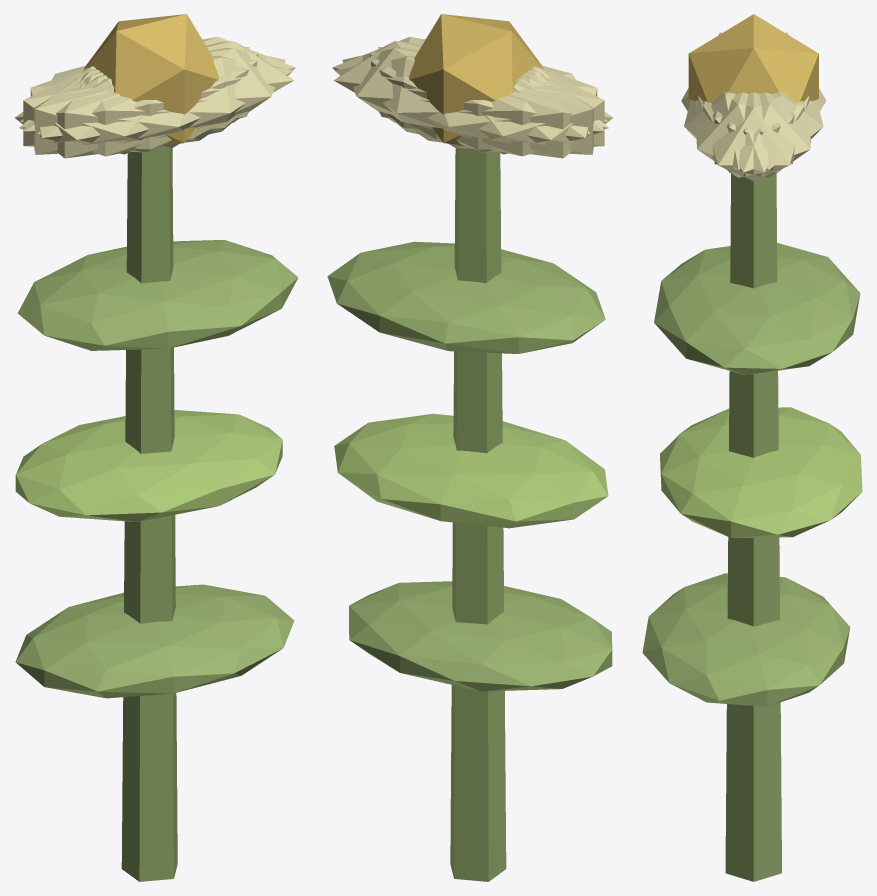
File: buxus-microphylla.glb
The picture shows the model from 3 angles, left to right: view 1: azimuth 30°, elevation 25°; view 2: azimuth 150°, elevation 25°; view 3: azimuth 270°, elevation 25°; orthographic projection.
Parts seen in each view (by area): view 1: stem, leaf0, leaf2, leaf1, center, petal1, petal6, petal2, petal5, petal7, petal0, petal4 (+2 smaller); view 2: stem, leaf1, leaf2, leaf0, center, petal8, petal3, petal7, petal4, petal2, petal0, petal5 (+2 smaller); view 3: stem, leaf2, leaf1, leaf0, center, petal0, petal5, petal4, petal1, petal8.
Boxes of the visible parts, bbox=[...] form: stem: bbox=[121, 148, 177, 881]; leaf0: bbox=[15, 584, 294, 698]; leaf2: bbox=[17, 240, 298, 350]; leaf1: bbox=[15, 410, 282, 522]; center: bbox=[84, 14, 219, 145]; petal1: bbox=[19, 55, 293, 156]; petal6: bbox=[14, 68, 213, 158]; petal2: bbox=[34, 47, 249, 154]; petal5: bbox=[37, 48, 285, 149]; petal7: bbox=[23, 52, 257, 152]; petal0: bbox=[83, 41, 293, 139]; petal4: bbox=[20, 37, 295, 131]; stem: bbox=[450, 148, 506, 881]; leaf1: bbox=[334, 413, 608, 528]; leaf2: bbox=[327, 241, 605, 353]; leaf0: bbox=[349, 581, 612, 691]; center: bbox=[409, 14, 543, 145]; petal8: bbox=[334, 55, 608, 156]; petal3: bbox=[414, 68, 613, 158]; petal7: bbox=[378, 47, 593, 154]; petal4: bbox=[342, 48, 590, 149]; petal2: bbox=[370, 52, 604, 152]; petal0: bbox=[334, 41, 544, 139]; petal5: bbox=[332, 36, 607, 131]; stem: bbox=[725, 173, 781, 881]; leaf2: bbox=[654, 243, 860, 375]; leaf1: bbox=[660, 407, 862, 537]; leaf0: bbox=[642, 573, 850, 706]; center: bbox=[688, 14, 818, 102]; petal0: bbox=[698, 92, 809, 180]; petal5: bbox=[696, 92, 804, 177]; petal4: bbox=[703, 92, 811, 177]; petal1: bbox=[684, 92, 794, 170]; petal8: bbox=[712, 92, 823, 169].
Size of the model in its own units: 0.1452 by 0.4355 by 0.1036.
